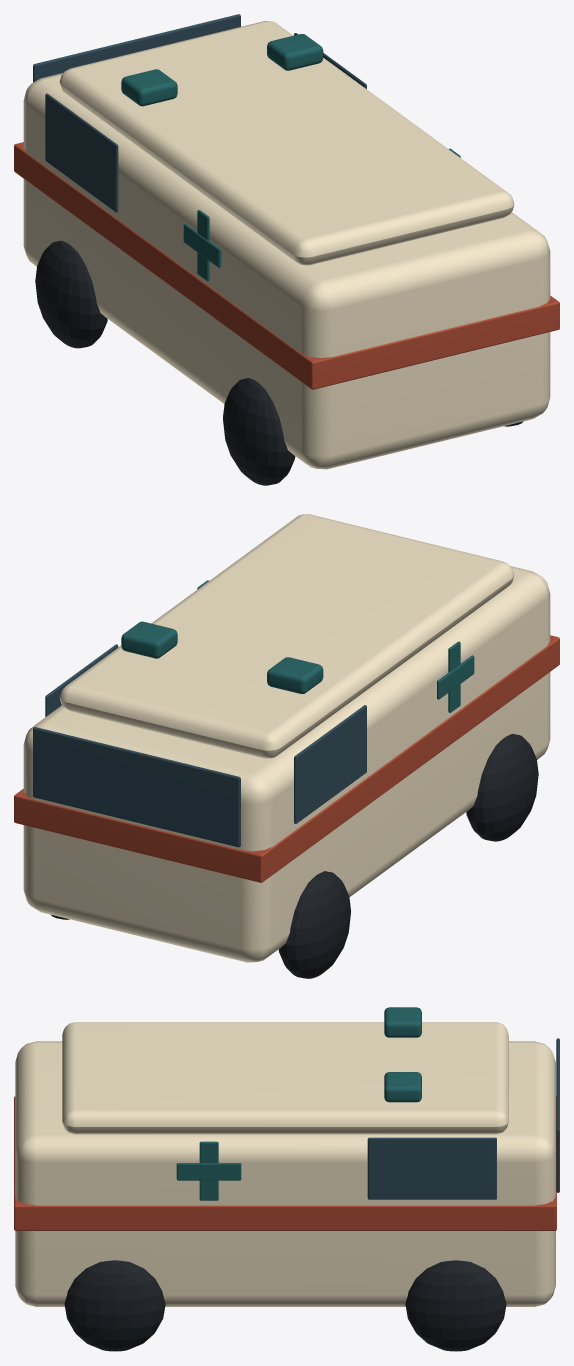
File: medical.glb
3 renders of one model, top to bottom at view 1: azimuth 30°, elevation 25°; view 2: azimuth 150°, elevation 25°; view 3: azimuth 270°, elevation 25°, orthographic. The views are drawn at different scales.
Parts seen in each view (by area): view 1: ivory, red, ink, glass, teal; view 2: ivory, glass, red, ink, teal; view 3: ivory, red, ink, glass, teal.
Boxes of the visible parts, left/top/right/bottom form: ivory: left=23, top=21, right=550, bottom=469; red: left=14, top=142, right=559, bottom=389; ink: left=35, top=240, right=523, bottom=485; glass: left=33, top=14, right=366, bottom=212; teal: left=121, top=34, right=460, bottom=281; ivory: left=23, top=514, right=550, bottom=962; glass: left=33, top=644, right=366, bottom=847; red: left=14, top=635, right=559, bottom=882; ink: left=51, top=733, right=538, bottom=978; teal: left=121, top=580, right=474, bottom=712; ivory: left=15, top=1022, right=555, bottom=1306; red: left=14, top=1096, right=556, bottom=1230; ink: left=64, top=1260, right=506, bottom=1351; glass: left=367, top=1038, right=559, bottom=1199; teal: left=176, top=1007, right=421, bottom=1200.
Size of the model in its own units: 2.6 by 2.35 by 4.64.
